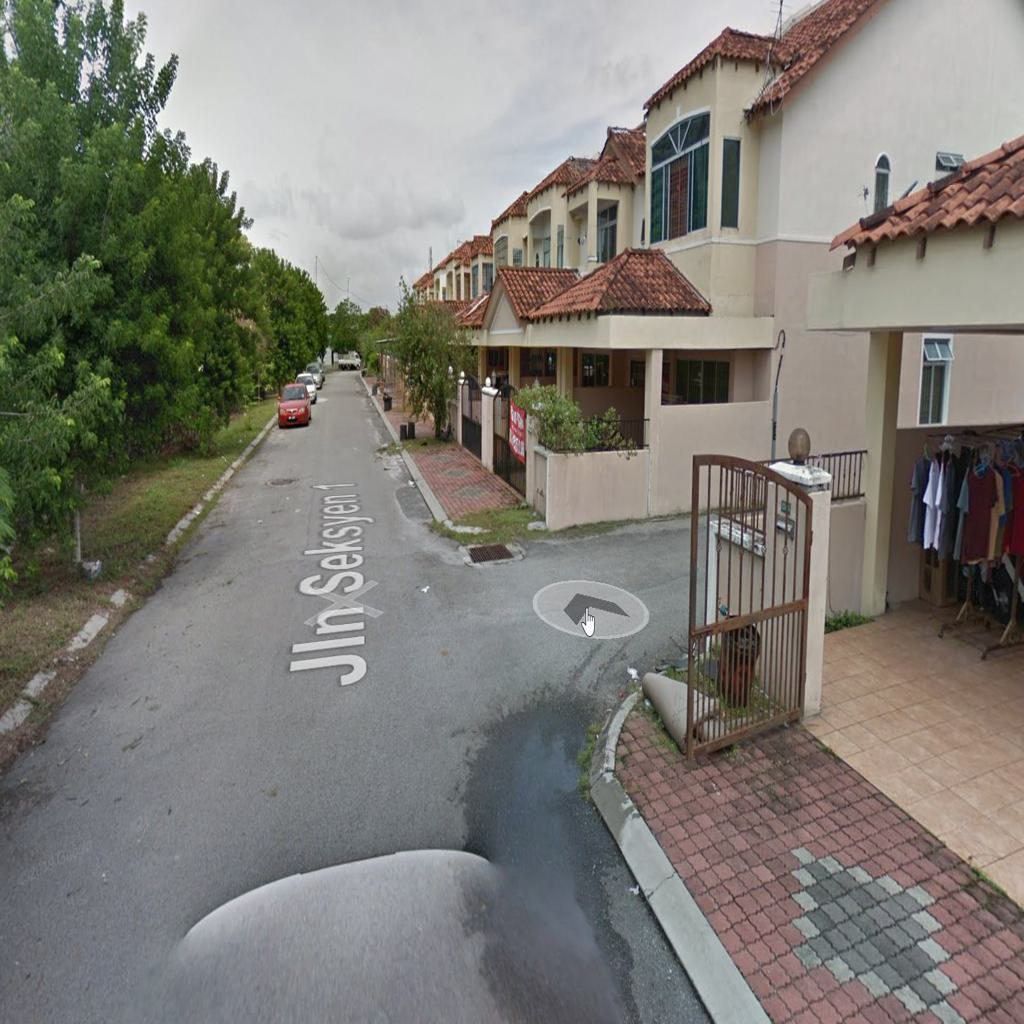Junction: (401, 492, 727, 742)
